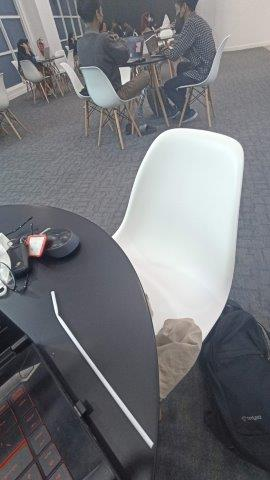sedotan: (51, 291, 154, 448)
